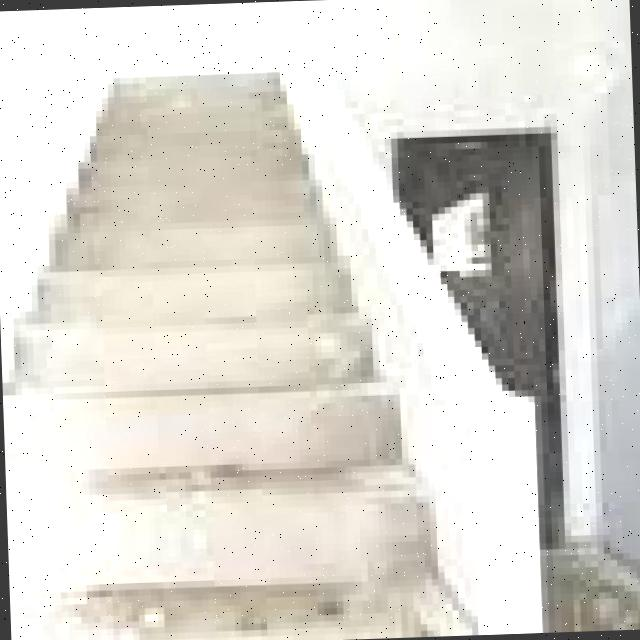stairs: (0, 52, 485, 640)
